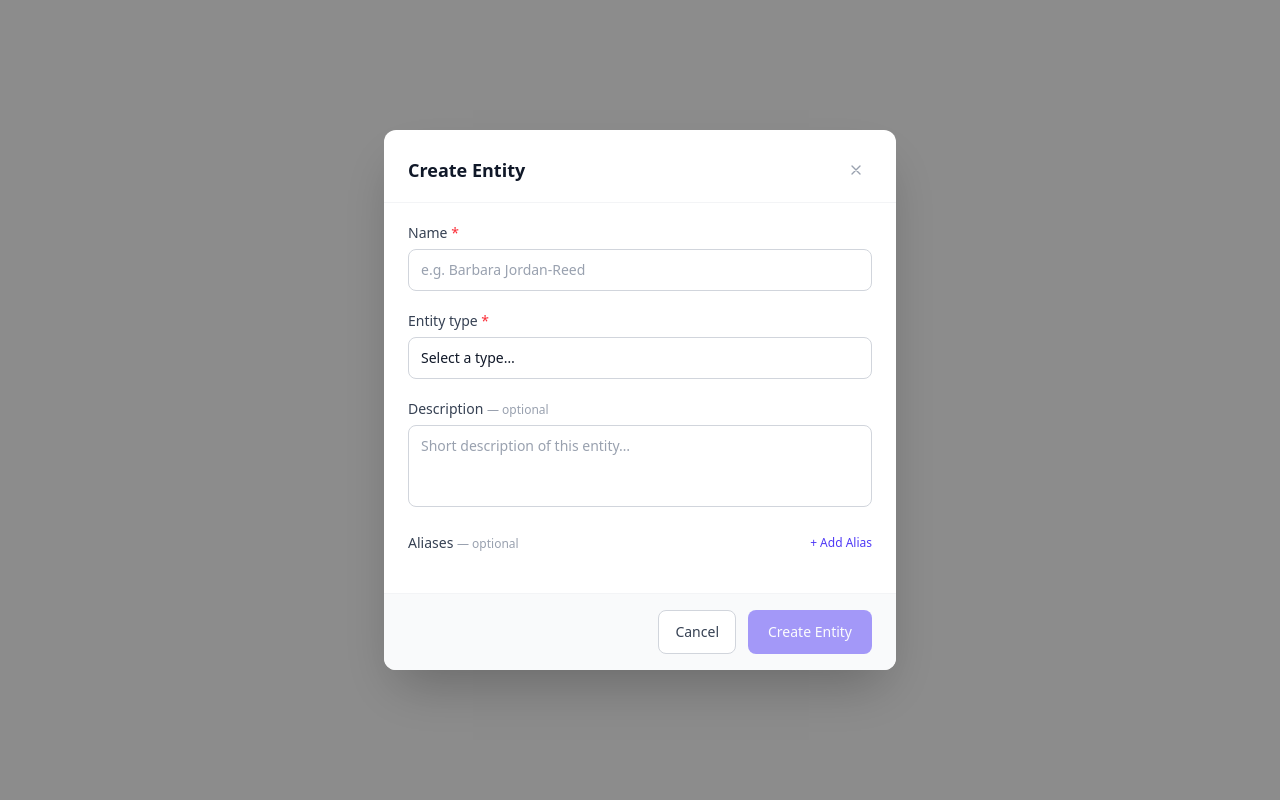
Test: CreateEntityModal › Tag selection (FR-004) › shows 'Creating from tag' label after a tag is selected
Type "alex" into the dropdown labelled "Name *" at (640, 270), box [408,249,872,291]
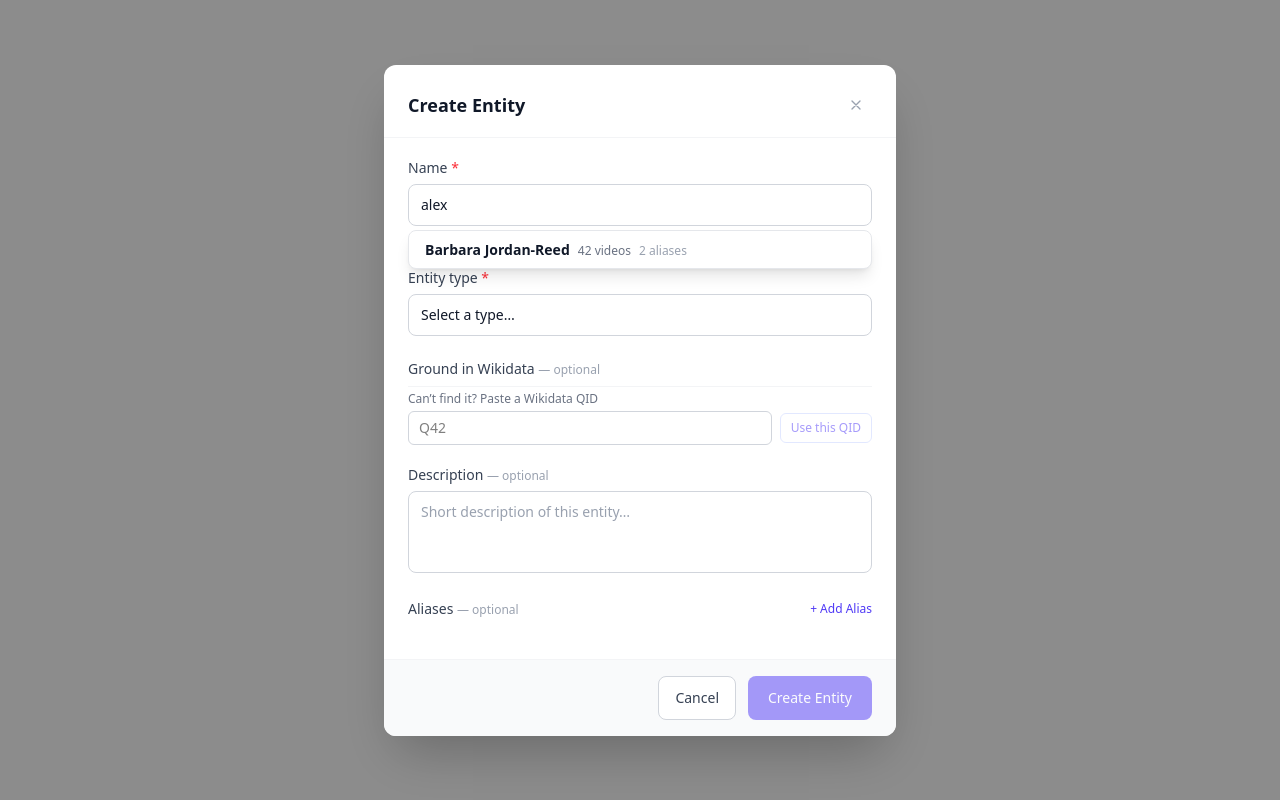
Click the option "Barbara Jordan-Reed 42 videos 2 aliases" at (556, 249), box [425,240,687,258]
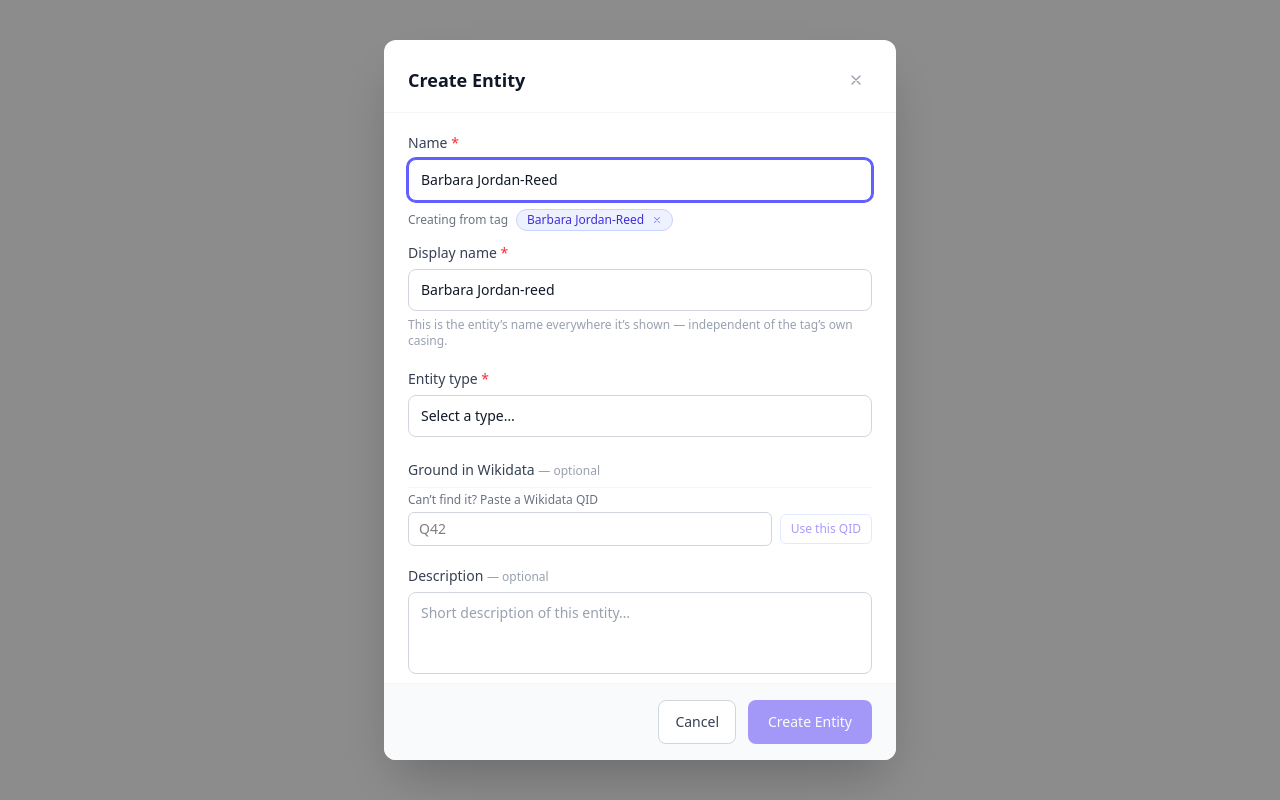
Result: the text "Creating from tag" is shown at [408,212,508,228]
